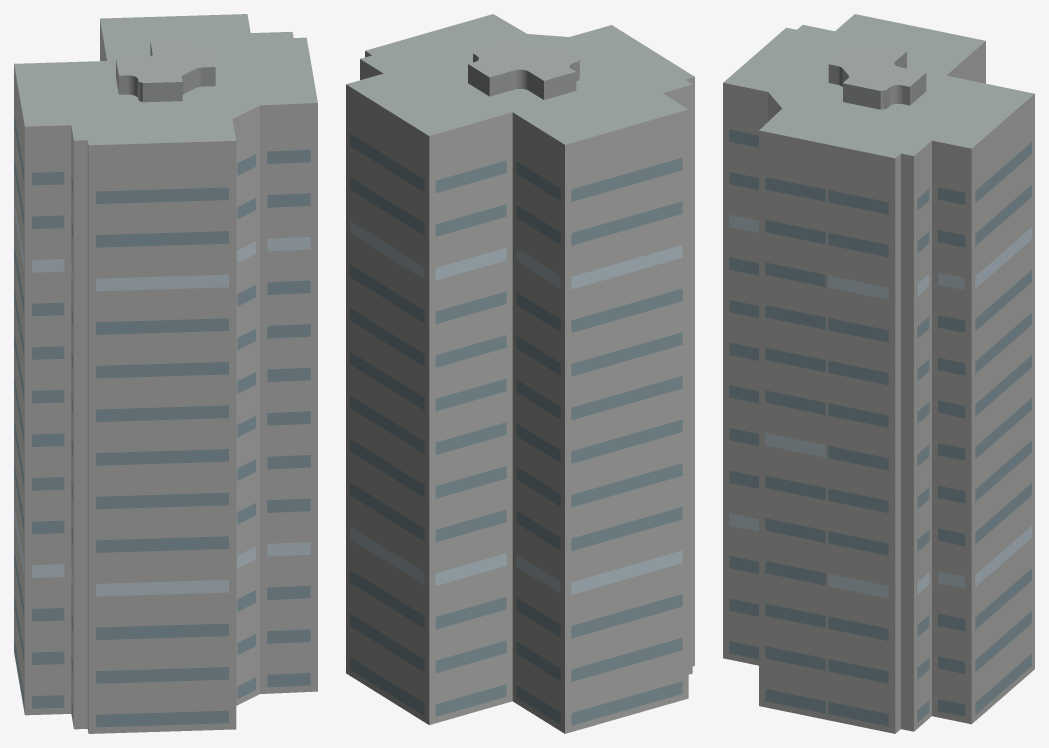
File: fallback-banpo-xi-126.glb
3 renders of one model, left to right at view 1: azimuth 30°, elevation 25°; view 2: azimuth 150°, elevation 25°; view 3: azimuth 270°, elevation 25°, orthographic. The views are drawn at different scales.
Visible parts, largest first — view 1: fallback-banpo-xi-126; view 2: fallback-banpo-xi-126; view 3: fallback-banpo-xi-126.
Part boxes in pixels (x1,y1,x2,y2): fallback-banpo-xi-126: (14,14,317,733); fallback-banpo-xi-126: (346,14,694,733); fallback-banpo-xi-126: (723,14,1034,733).
Size of the model in its own units: 39.59 by 76 by 36.12.
